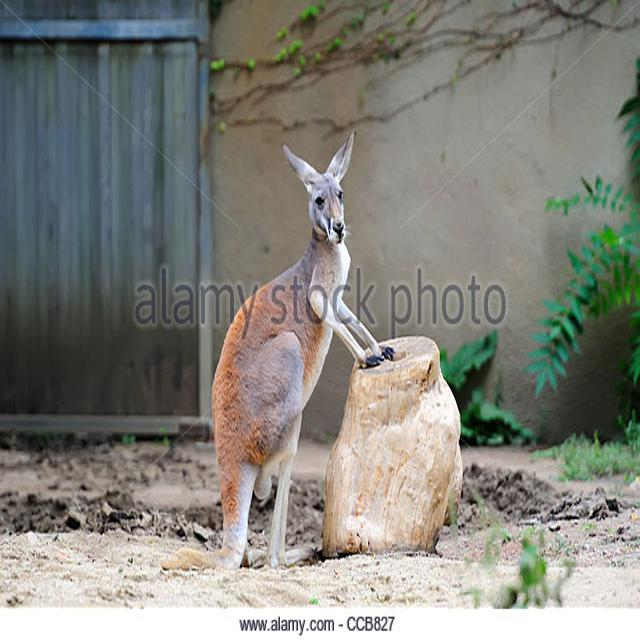kangaroo: (205, 130, 364, 567)
